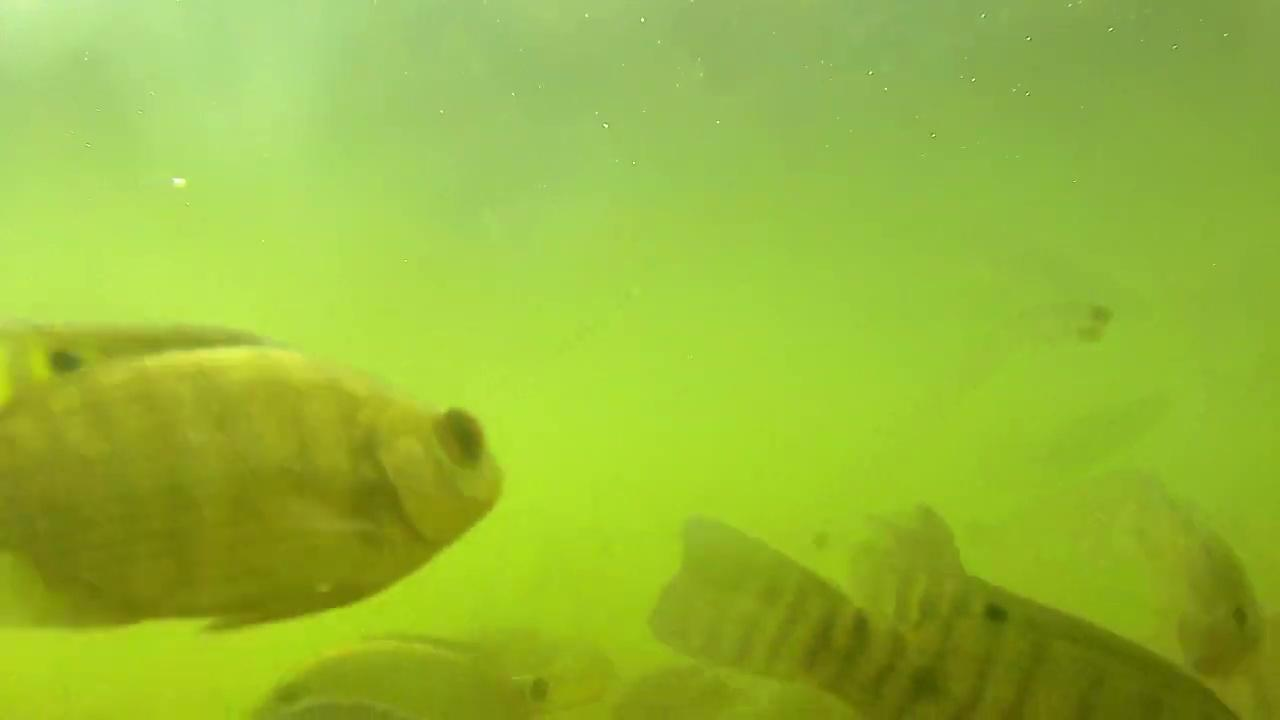Tilapia: (7, 308, 510, 650), (1069, 468, 1280, 686), (239, 636, 611, 720)
